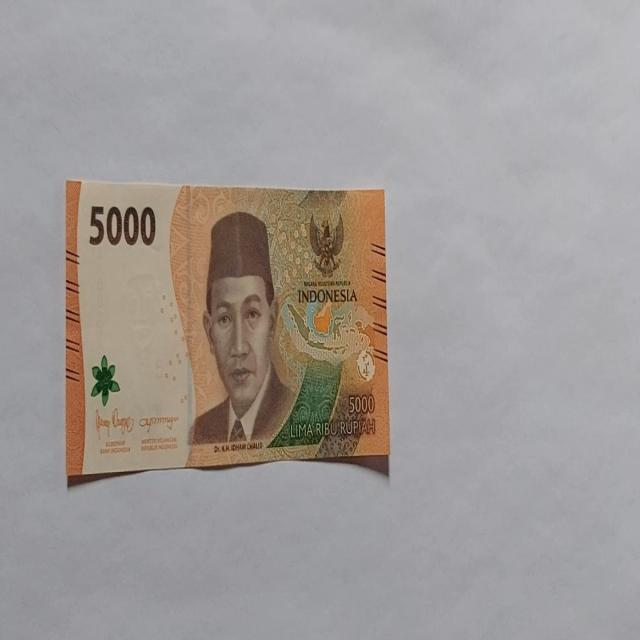lima ribu rupiah: (64, 177, 390, 483), (185, 209, 296, 452)
